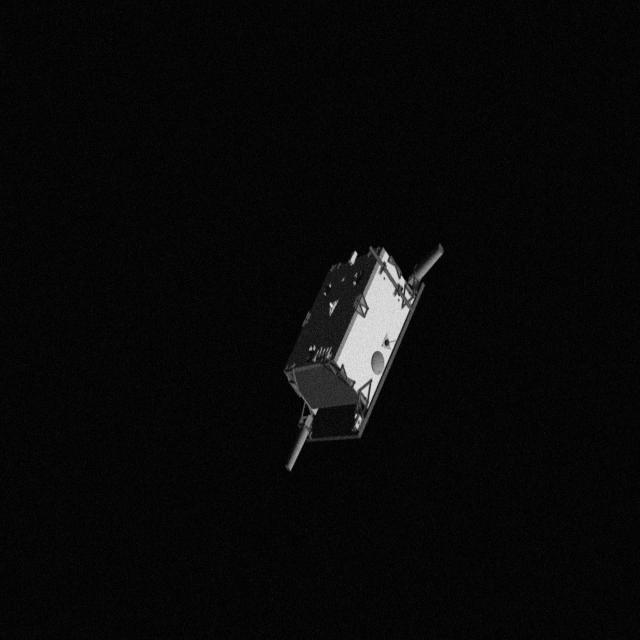satellite: (276, 230, 454, 480)
